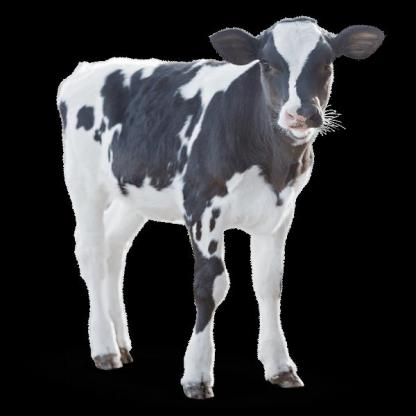cow: (60, 17, 384, 397)
